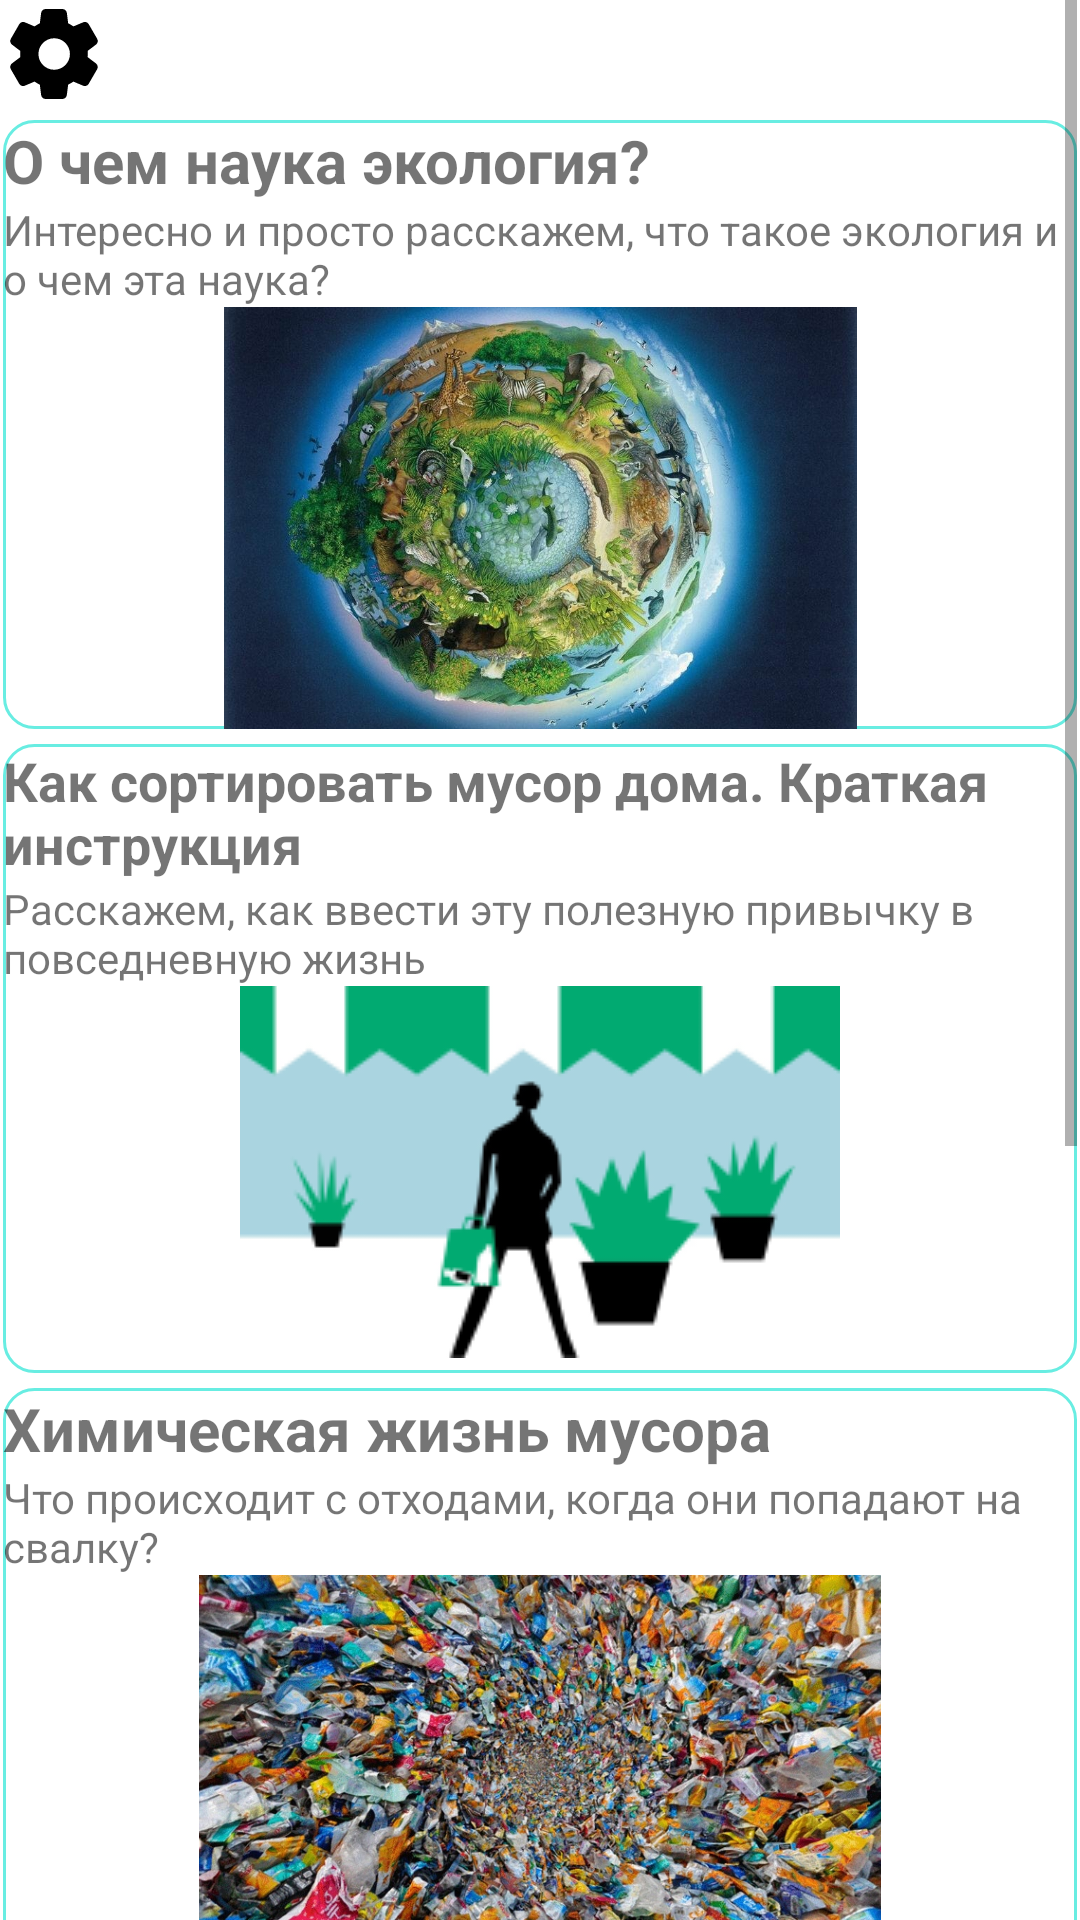

Locate icon controls on the screen. Image size 1080x1920, boxes as [x1,y1,x2,y2].
settings: [10,9,98,99]
